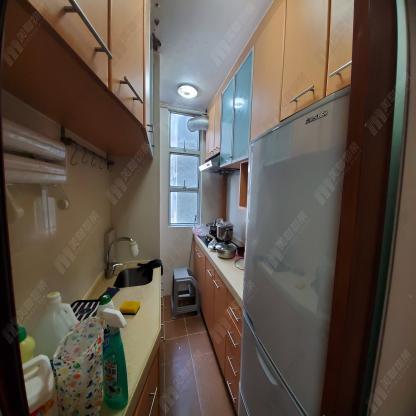Cupboard: (219, 0, 357, 168), (192, 232, 243, 405)
Exhaust Hood: (198, 156, 238, 176)
Faucet: (102, 233, 139, 276)
Fridge: (236, 86, 354, 416)
Sink: (116, 266, 153, 289)
